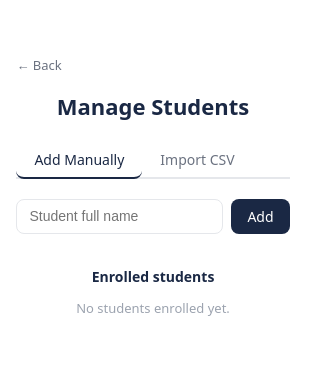
Test: CourseStudentsView › switches tabs when tab buttons are clicked
Click the button with test id "tab-import" at [197, 160], box [142,142,253,179]
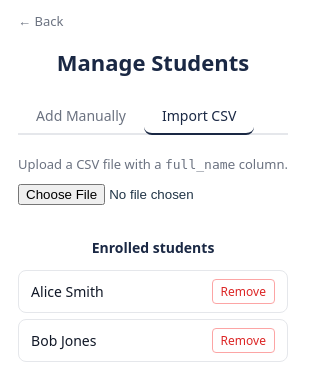
expect the element with test id "panel-import" is shown: met, box [18,155,288,205]
Click the button with test id "tab-manual" at [81, 116], box [18,98,144,135]
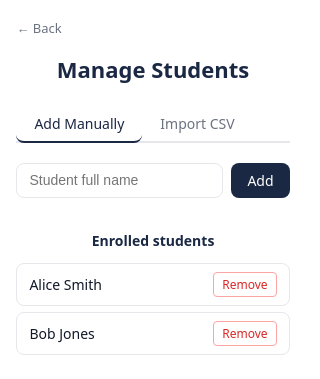
expect the element with test id "panel-manual" is shown: met, box [16,163,290,198]
